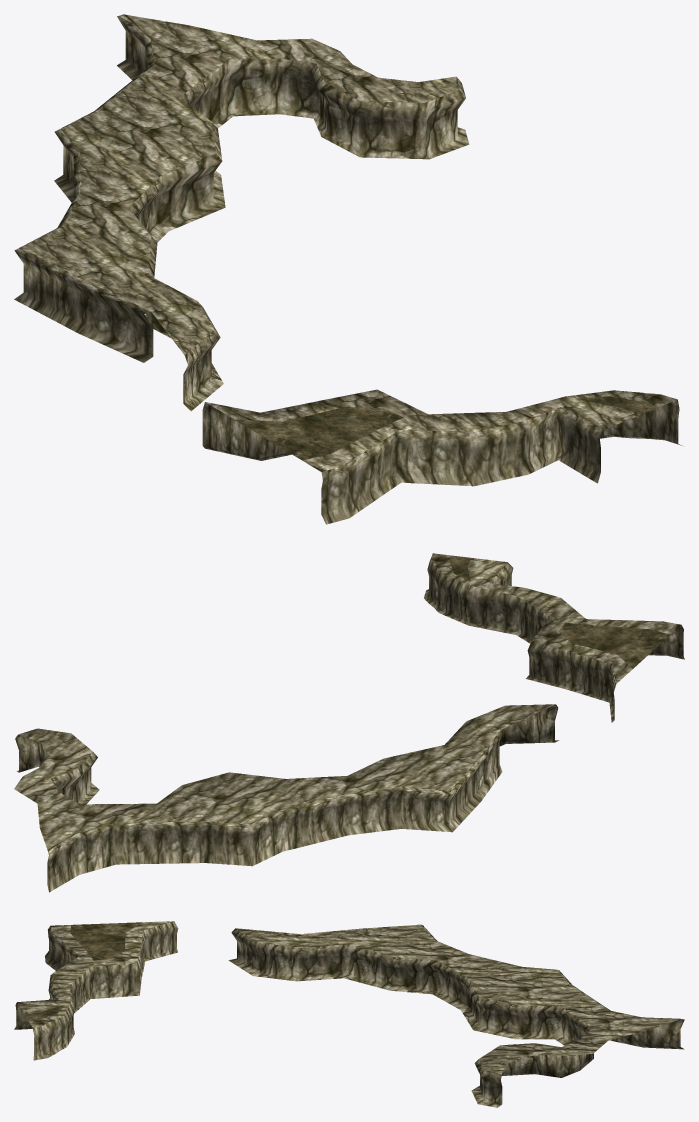
The model's file is CB_NEWPLAYSURFACE_CB_PLAYSURFACE91.fbx.
3 renders of one model, top to bottom at view 1: azimuth 30°, elevation 25°; view 2: azimuth 150°, elevation 25°; view 3: azimuth 270°, elevation 25°, orthographic. The views are drawn at different scales.
Visible parts, largest first — view 1: CB_NEWPLAYSURFACE_CB_PLAYSURFACE91; view 2: CB_NEWPLAYSURFACE_CB_PLAYSURFACE91; view 3: CB_NEWPLAYSURFACE_CB_PLAYSURFACE91.
Boxes of the visible parts, bbox=[...] form: CB_NEWPLAYSURFACE_CB_PLAYSURFACE91: bbox=[14, 14, 683, 524]; CB_NEWPLAYSURFACE_CB_PLAYSURFACE91: bbox=[14, 553, 684, 892]; CB_NEWPLAYSURFACE_CB_PLAYSURFACE91: bbox=[14, 921, 684, 1107].
Bounding box in the file's own units: 380365 × 36464 × 688304.
Materials: 3 (3 with a texture image).
